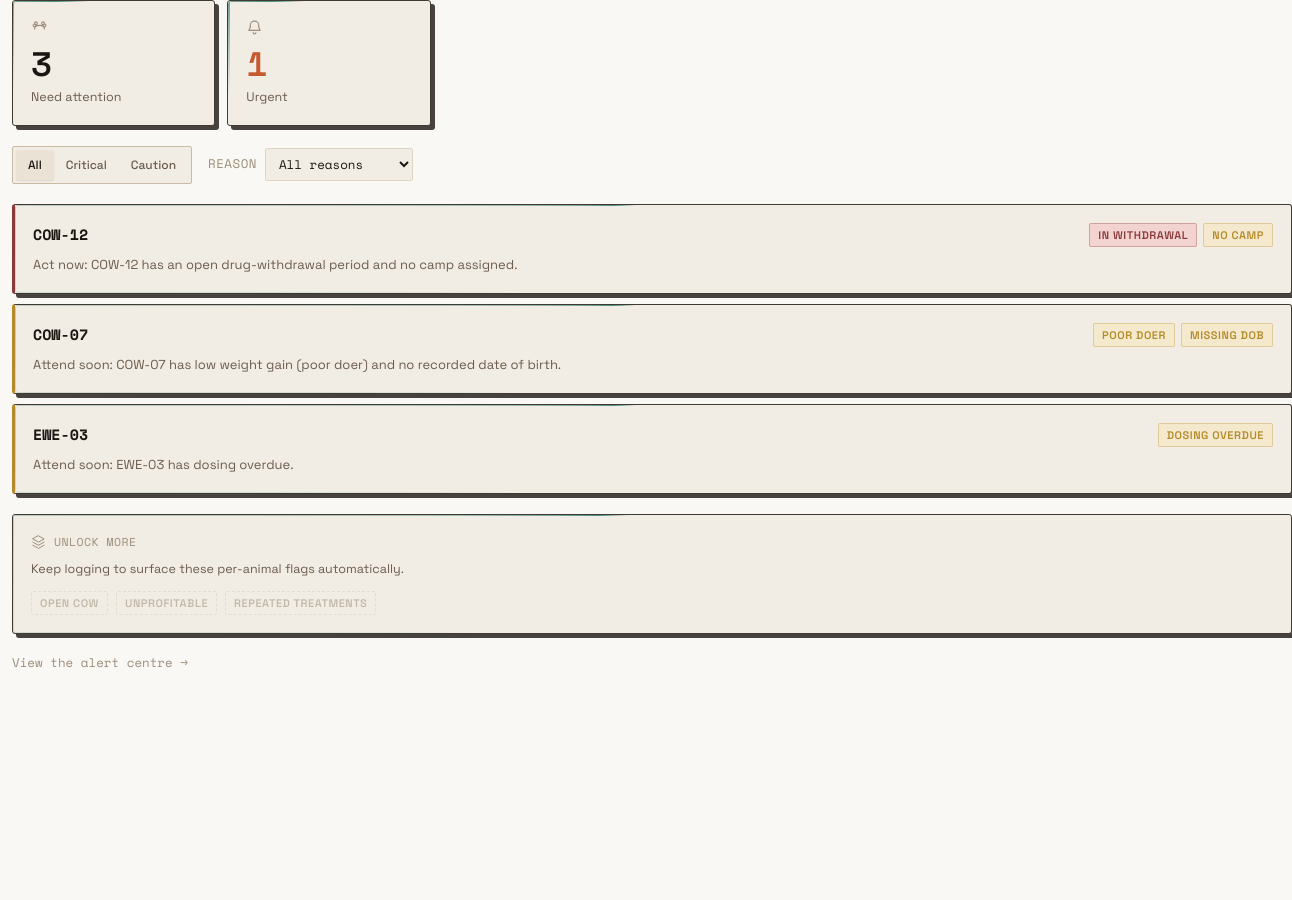
TriageClient — severity filter (slice 2) › filters to red-only items when Critical is selected
Click the tab "Critical" at (86, 165), box [54,150,119,180]
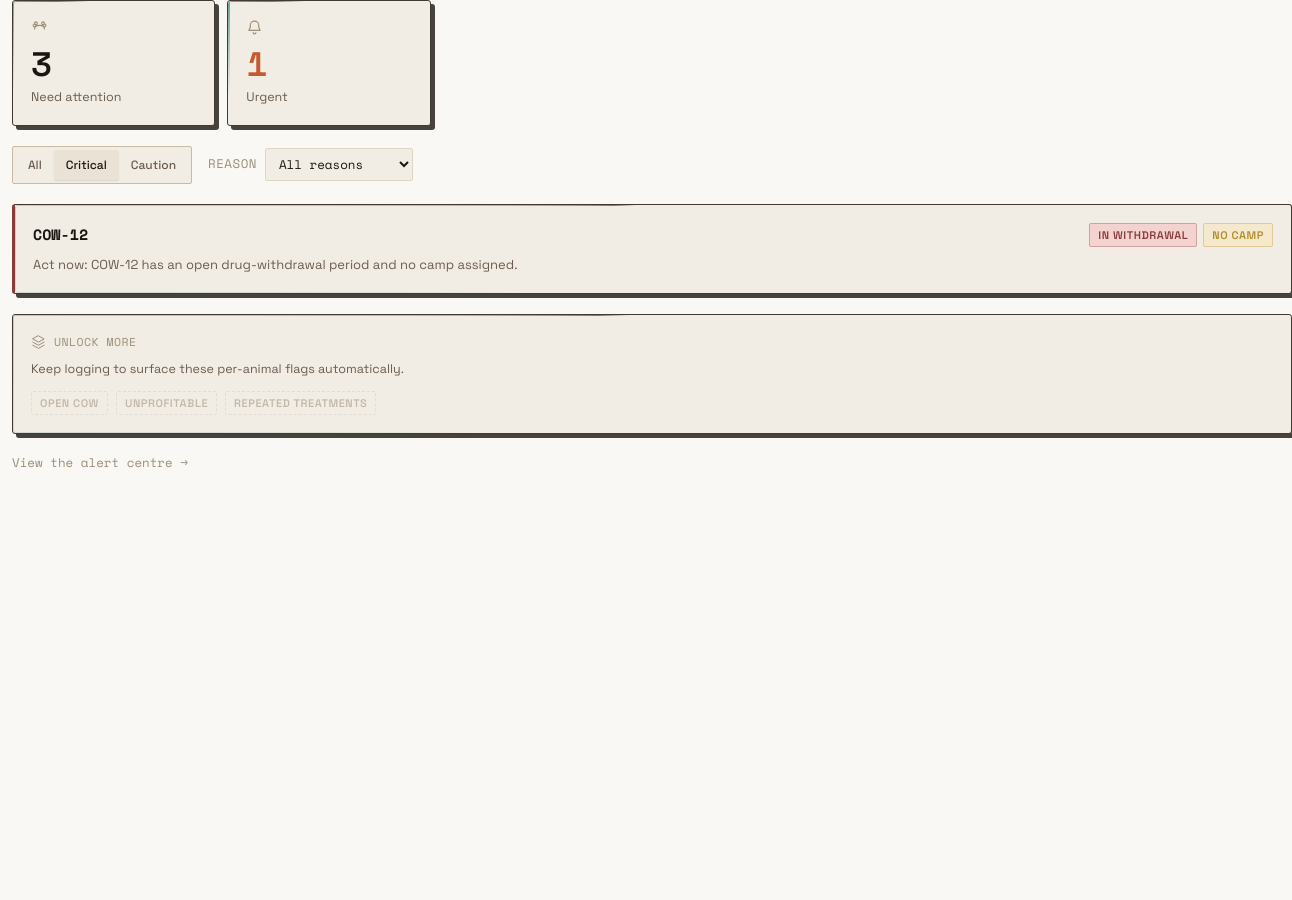
Expected: the text "COW-12" is shown, [33,223,88,245]
Expected: the link "COW-07" is gone
Expected: the link "EWE-03" is gone
